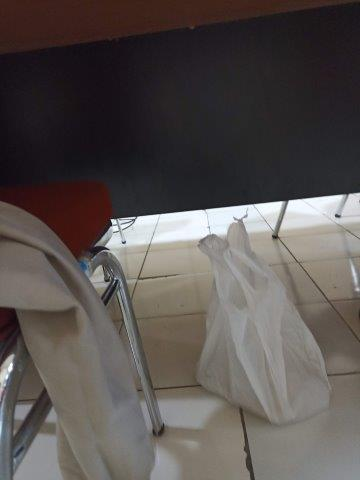plastik: (195, 222, 331, 423)
